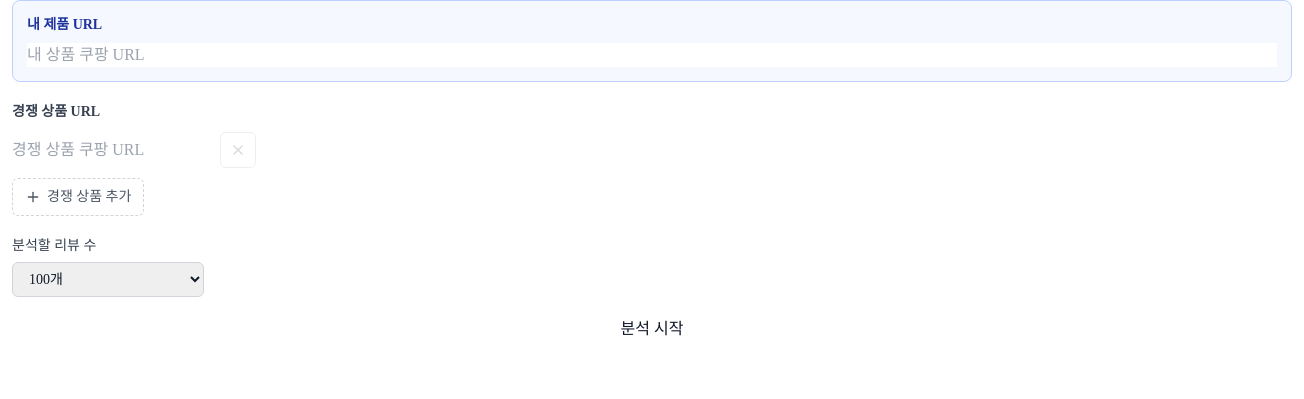
Scenario: UrlInput › removes competitor inputs down to a minimum of 1
Step 1. Click the button "경쟁 상품 추가" → [78, 197], box [12,178,144,216]
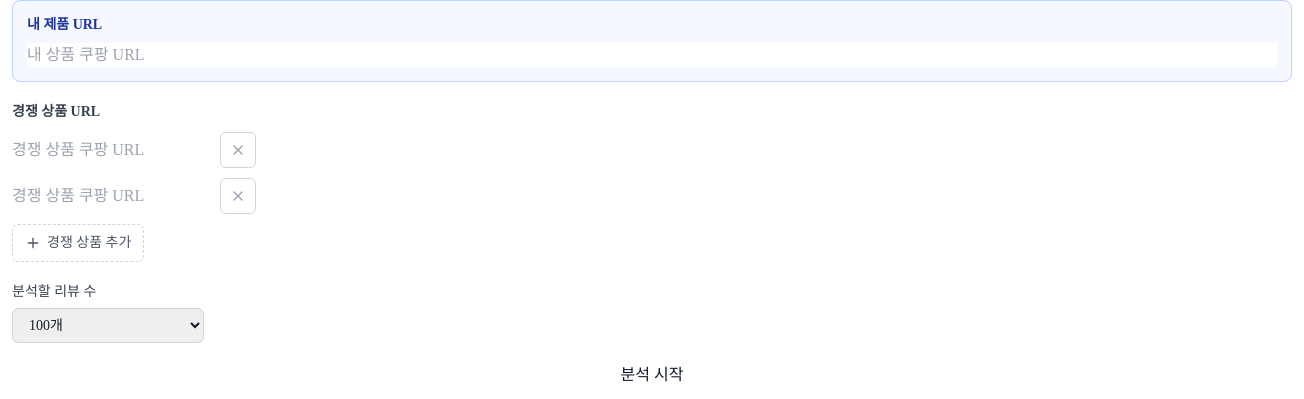
Check: the field named "경쟁 상품 URL 2" is shown, box [12,184,212,208]
Step 2. Click the button named "경쟁 상품 URL 2 삭제" → [238, 196], box [220,178,256,214]
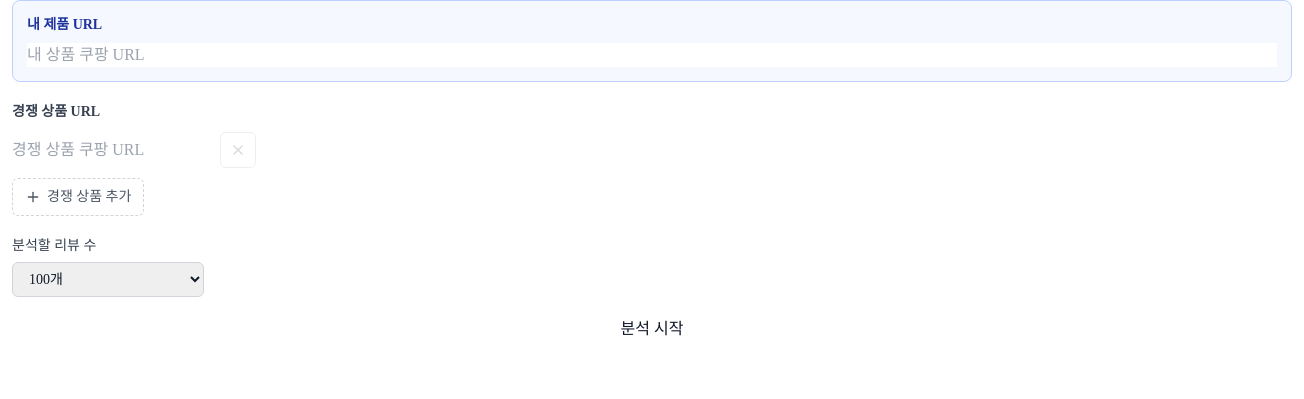
Check: the button named "경쟁 상품 URL 1 삭제" is disabled, box [220,132,256,168]
